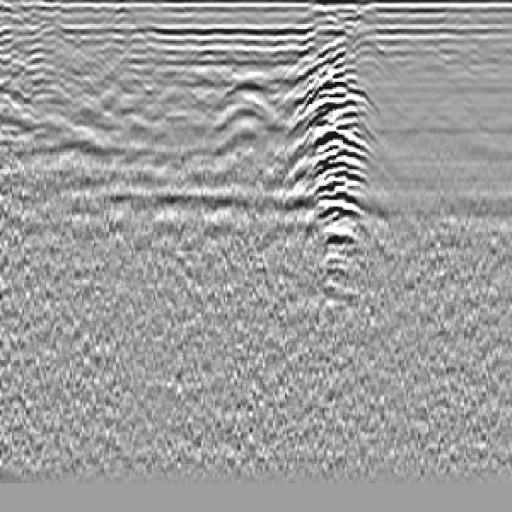metalic: (275, 20, 406, 318)
nonmetalic: (206, 62, 286, 170)
